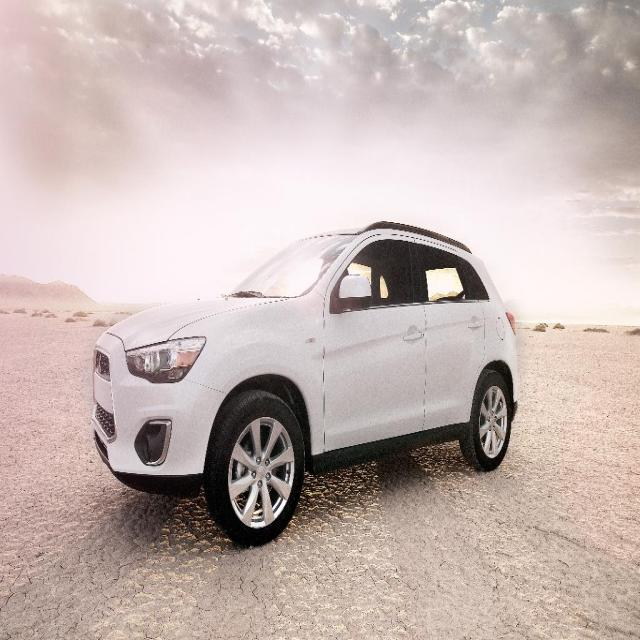Car: (91, 221, 518, 549)
